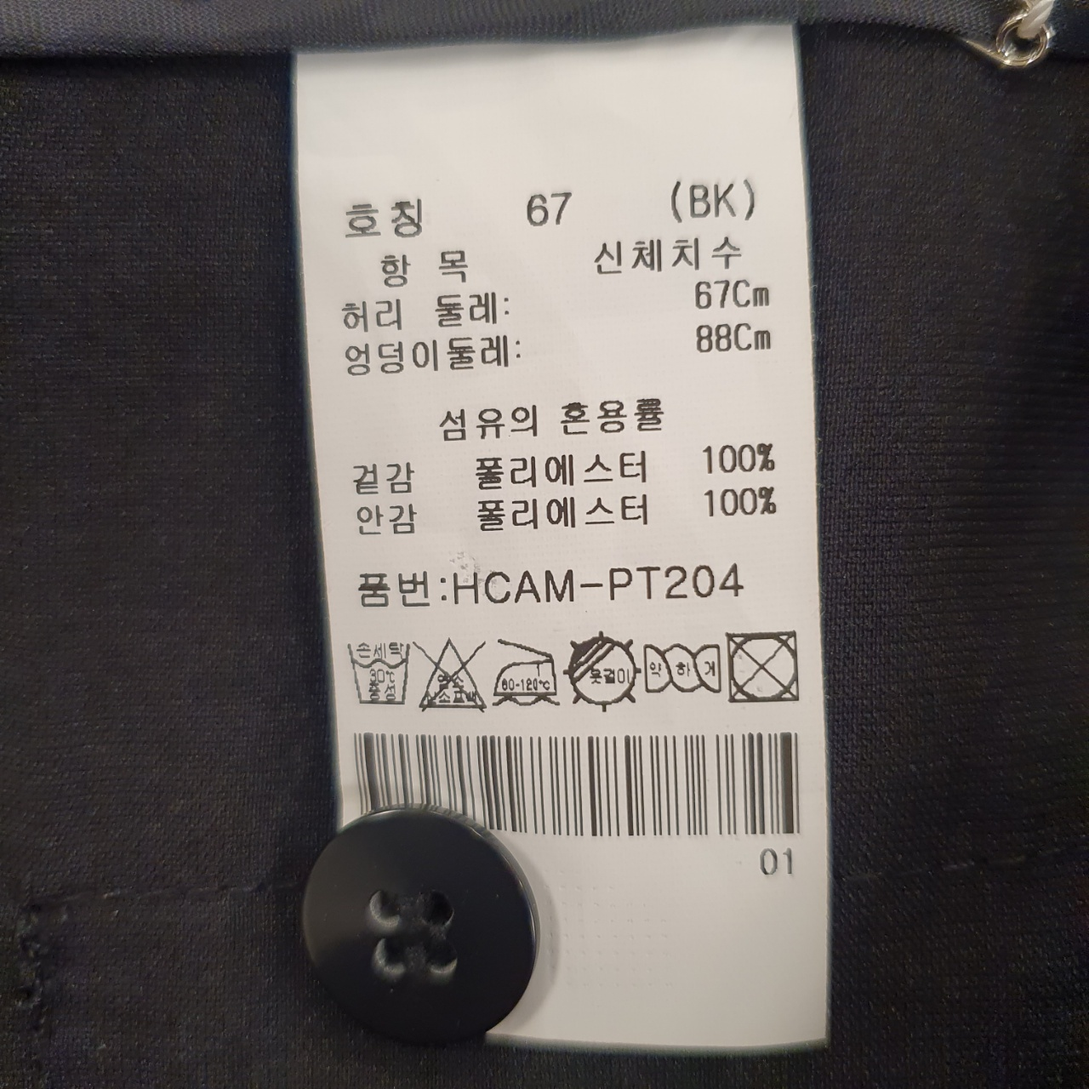KR_gentle_wring: (638, 639, 726, 697)
KR_hand_wash_30_neutral: (342, 633, 414, 714)
KR_hang_dry_in_shade: (562, 629, 643, 711)
KR_iron_low_temp_with_cloth: (487, 631, 561, 711)
KR_no_bleach: (416, 638, 489, 715)
KR_no_tumble_dry: (723, 626, 805, 705)
